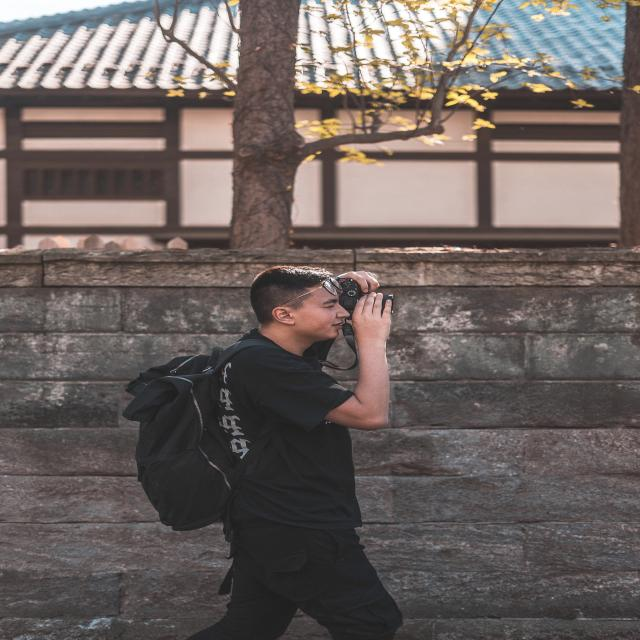adult: (180, 263, 418, 640)
